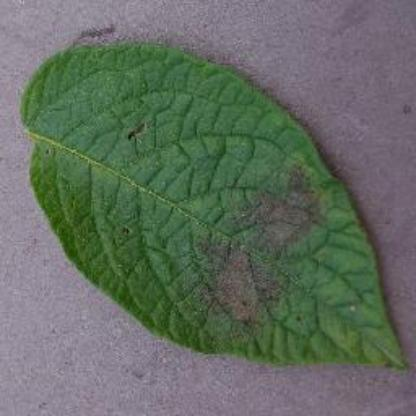Late-Blight: (10, 24, 414, 387)
